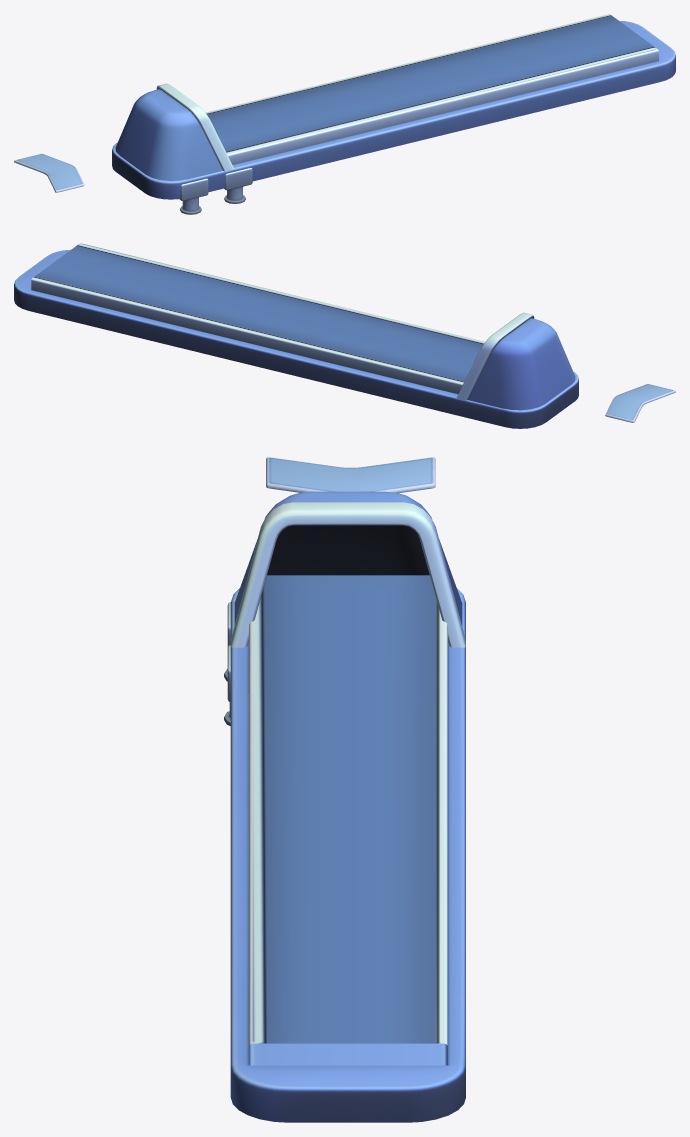
Rendered from banglow.fbx.
3 renders of one model, top to bottom at view 1: azimuth 30°, elevation 25°; view 2: azimuth 150°, elevation 25°; view 3: azimuth 270°, elevation 25°, orthographic. The views are drawn at different scales.
Visible parts, largest first — view 1: Plane.010, Plane.013, Cube.051, Cube.052, Plane.014; view 2: Plane.010, Plane.013, Cube.051, Plane.014; view 3: Plane.010, Plane.013, Cube.051, Plane.014.
Part boxes in pixels (<box>): Plane.010: <box>206,14,658,164</box>; Plane.013: <box>112,21,675,199</box>; Cube.051: <box>115,83,233,180</box>; Cube.052: <box>179,168,252,214</box>; Plane.014: <box>14,153,84,192</box>; Plane.010: <box>31,243,484,393</box>; Plane.013: <box>14,249,578,428</box>; Cube.051: <box>456,312,575,410</box>; Plane.014: <box>605,384,675,422</box>; Plane.010: <box>249,575,447,1046</box>; Plane.013: <box>230,588,465,1122</box>; Cube.051: <box>231,491,465,647</box>; Plane.014: <box>266,457,435,493</box>.
Bounding box in the file's own units: 12.45 × 1.76 × 2.1.
1 material, 1 textured.
